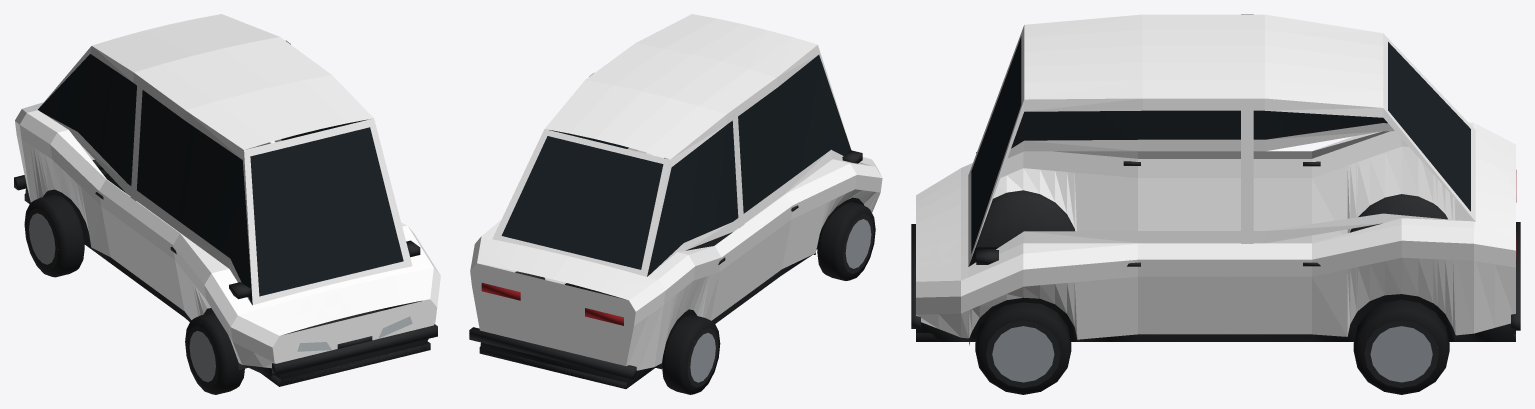
Rendered from kosame_alpendre.glb.
3 views of the same model, side by side, from view 1: azimuth 30°, elevation 25°; view 2: azimuth 150°, elevation 25°; view 3: azimuth 270°, elevation 25° (orthographic). The views are drawn at different scales.
Visible parts, largest first — view 1: Body_Paint, Body_Details, Mount_RearLeft_Wheel_Details, Mount_FrontLeft_Wheel_Details; view 2: Body_Paint, Body_Details, Mount_RearLeft_Wheel_Details, Mount_FrontLeft_Wheel_Details; view 3: Body_Paint, Body_Details, Mount_RearRight_Wheel_Details, Mount_FrontRight_Wheel_Details.
Part boxes in pixels (x1,y1,x2,y2): Body_Paint: (15, 14, 440, 368); Body_Details: (14, 54, 437, 386); Mount_RearLeft_Wheel_Details: (24, 194, 84, 277); Mount_FrontLeft_Wheel_Details: (185, 312, 244, 394); Body_Paint: (470, 14, 882, 370); Body_Details: (469, 55, 864, 388); Mount_RearLeft_Wheel_Details: (662, 314, 720, 394); Mount_FrontLeft_Wheel_Details: (817, 202, 875, 280); Body_Paint: (916, 14, 1515, 339); Body_Details: (911, 36, 1520, 345); Mount_RearRight_Wheel_Details: (1353, 299, 1449, 394); Mount_FrontRight_Wheel_Details: (975, 302, 1071, 394).
Size of the model in its own units: 1.66 by 1.79 by 3.49.
Materials: 2 (1 with a texture image).
